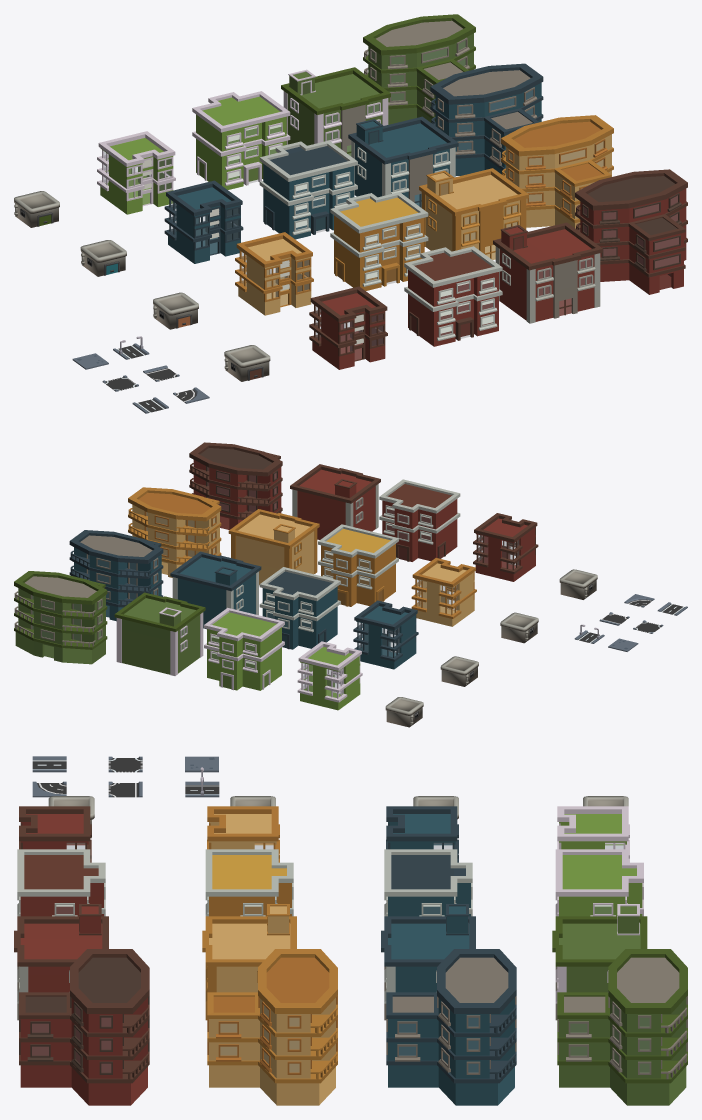
Rendered from Free City Pack.glb.
3 views of the same model, one above another, from view 1: azimuth 30°, elevation 25°; view 2: azimuth 150°, elevation 25°; view 3: azimuth 270°, elevation 25° (orthographic). The views are drawn at different scales.
Visible parts, largest first — view 1: Big Apartments, Big Apartments.001, Medium Apartments, Big Apartments.002, Big Apartments.003, Apartments, Apartments.001, Apartments.002, Apartments.003, Medium Apartments.001, Medium Apartments.002, Medium Apartments.003 (+8 smaller); view 2: Big Apartments.003, Medium Apartments.003, Big Apartments, Big Apartments.001, Big Apartments.002, Apartments.003, Apartments, Apartments.001, Apartments.002, Medium Apartments, Medium Apartments.001, Medium Apartments.002 (+8 smaller); view 3: Big Apartments.003, Big Apartments, Big Apartments.001, Big Apartments.002, Medium Apartments.003, Medium Apartments.001, Medium Apartments.002, Medium Apartments, Apartments, Apartments.003, Apartments.002, Apartments.001 (+10 smaller).
Part boxes in pixels (x1,y1,x2,y2): Big Apartments: (575, 169, 687, 294); Big Apartments.001: (501, 115, 613, 228); Medium Apartments: (493, 222, 602, 323); Big Apartments.002: (430, 63, 543, 175); Big Apartments.003: (363, 14, 475, 124); Apartments: (404, 246, 502, 346); Apartments.001: (330, 192, 428, 290); Apartments.002: (259, 140, 357, 239); Apartments.003: (192, 91, 290, 189); Medium Apartments.001: (419, 168, 528, 259); Medium Apartments.002: (348, 116, 458, 207); Medium Apartments.003: (281, 67, 390, 156); Big Apartments.003: (14, 571, 107, 664); Medium Apartments.003: (114, 592, 205, 675); Big Apartments: (189, 442, 282, 529); Big Apartments.001: (128, 487, 221, 577); Big Apartments.002: (69, 530, 163, 621); Apartments.003: (204, 607, 284, 690); Apartments: (379, 479, 460, 561); Apartments.001: (318, 524, 398, 606); Apartments.002: (259, 567, 340, 649); Medium Apartments: (290, 464, 380, 539); Medium Apartments.001: (228, 509, 319, 585); Medium Apartments.002: (170, 551, 261, 629); Big Apartments.003: (557, 949, 687, 1105); Big Apartments: (19, 949, 149, 1105); Big Apartments.001: (207, 949, 337, 1105); Big Apartments.002: (386, 949, 516, 1105); Medium Apartments.003: (552, 904, 647, 1020); Medium Apartments.001: (202, 904, 296, 1020); Medium Apartments.002: (381, 904, 475, 1020); Medium Apartments: (14, 904, 108, 1020); Apartments: (17, 849, 105, 916); Apartments.003: (555, 849, 643, 916); Apartments.002: (384, 849, 472, 916); Apartments.001: (205, 849, 293, 916).
Size of the model in its own units: 24.35 by 3.23 by 19.88.
3 materials, 3 textured.
